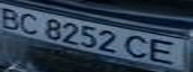2: (96, 27, 121, 55), (57, 19, 81, 46)
5: (78, 24, 100, 51)
8: (39, 16, 66, 42)
B: (0, 5, 27, 30)
C: (121, 33, 157, 61), (15, 10, 45, 36)
E: (145, 37, 190, 66)
